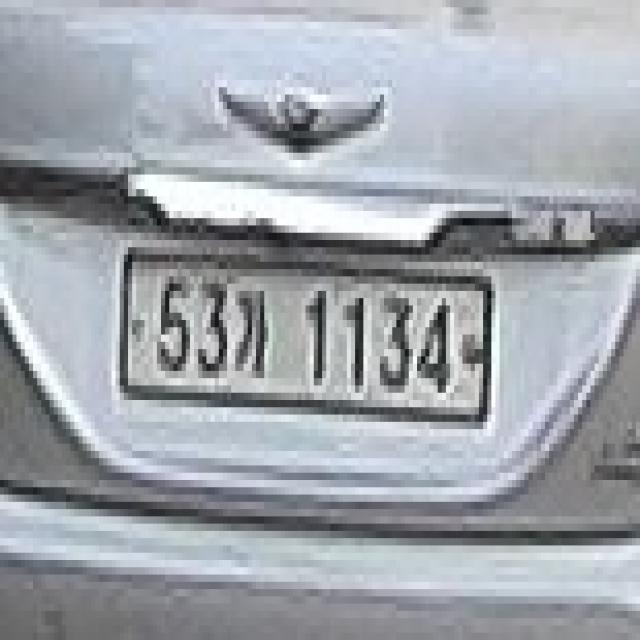1: (289, 276, 339, 393), (334, 276, 380, 400)
3: (376, 276, 413, 408), (194, 269, 235, 378)
4: (417, 284, 458, 414)
5: (153, 269, 194, 378)
ga: (227, 276, 273, 371)
license_plate: (116, 240, 496, 444)
